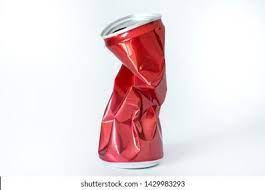can: (96, 13, 167, 169)
